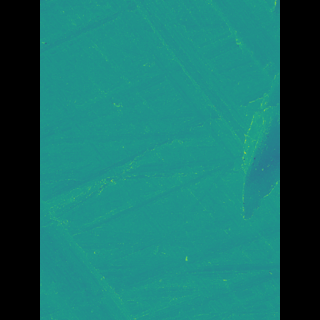Loch: (121, 0, 222, 193), (71, 198, 140, 319), (219, 62, 250, 221)
